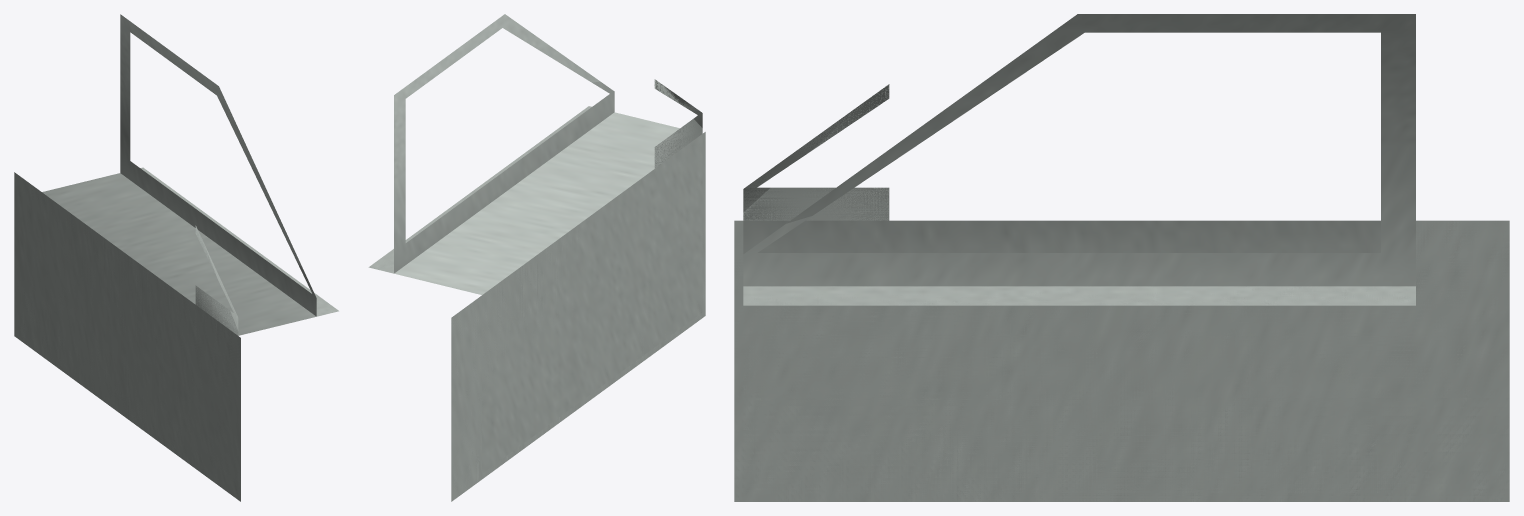
3 views of the same model, side by side, from view 1: azimuth 30°, elevation 25°; view 2: azimuth 150°, elevation 25°; view 3: azimuth 270°, elevation 25° (orthographic). The views are drawn at different scales.
Bounding box in the file's own units: 0.31 × 0.945 × 1.2.
1 material, 1 textured.
